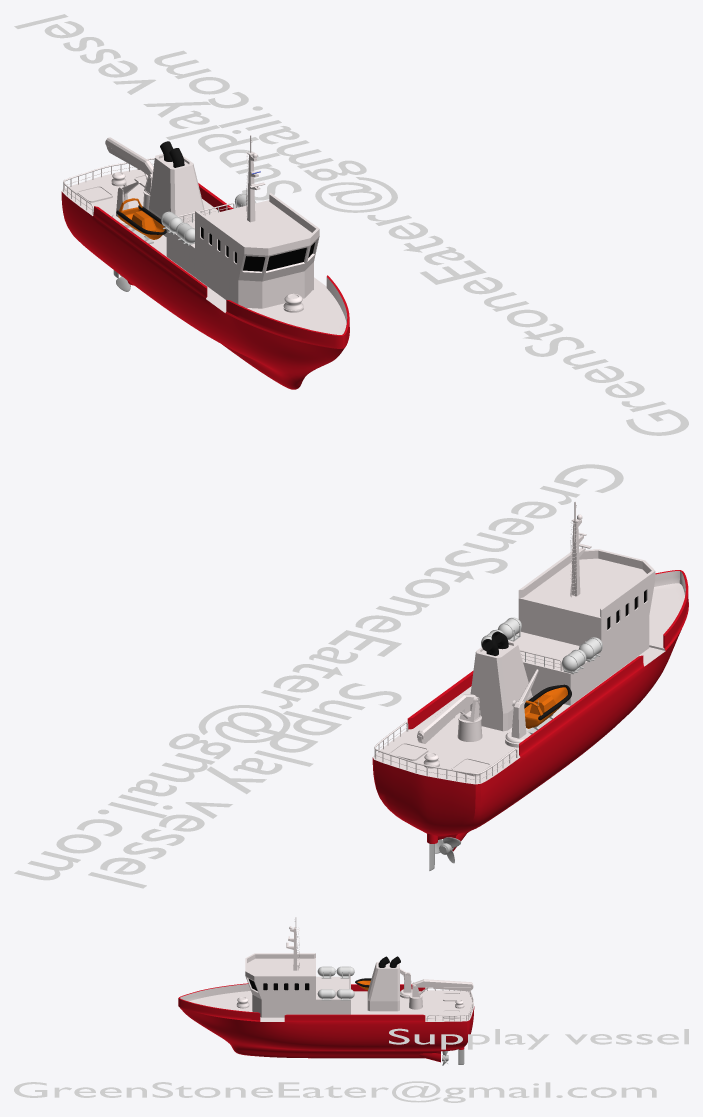
The model's file is Vessels 3.fbx.
The picture shows the model from 3 angles, top to bottom: view 1: azimuth 30°, elevation 25°; view 2: azimuth 150°, elevation 25°; view 3: azimuth 270°, elevation 25°; orthographic projection. The views are drawn at different scales.
Visible parts, largest first — view 1: Cube.072, Cube.013, Text.004, Text.003, Cube.048; view 2: Cube.072, Cube.013, Text.004, Text.003, Cube.048, Кран|Cube.033|Dupli|1, Cube.015; view 3: Cube.072, Cube.013, Text.004, Text.003, Cube.048, Кран|Cube.033|Dupli|1.
Part boxes in pixels (x1,y1,x2,y2): Cube.072: (61, 169, 349, 389); Cube.013: (166, 193, 319, 308); Text.004: (154, 50, 688, 435); Text.003: (14, 14, 301, 200); Cube.048: (149, 154, 205, 236); Cube.072: (372, 570, 688, 839); Cube.013: (514, 549, 655, 705); Text.004: (14, 464, 623, 880); Text.003: (88, 683, 401, 888); Cube.048: (470, 640, 532, 731); Кран|Cube.033|Dupli|1: (417, 694, 475, 739); Cube.015: (571, 520, 585, 596); Cube.072: (178, 983, 474, 1058); Cube.013: (245, 953, 350, 1017); Text.004: (14, 1081, 656, 1102); Text.003: (389, 1028, 688, 1049); Cube.048: (367, 961, 399, 1011); Кран|Cube.033|Dupli|1: (412, 979, 472, 987).
Bounding box in the file's own units: 4381 × 3443 × 14003.
